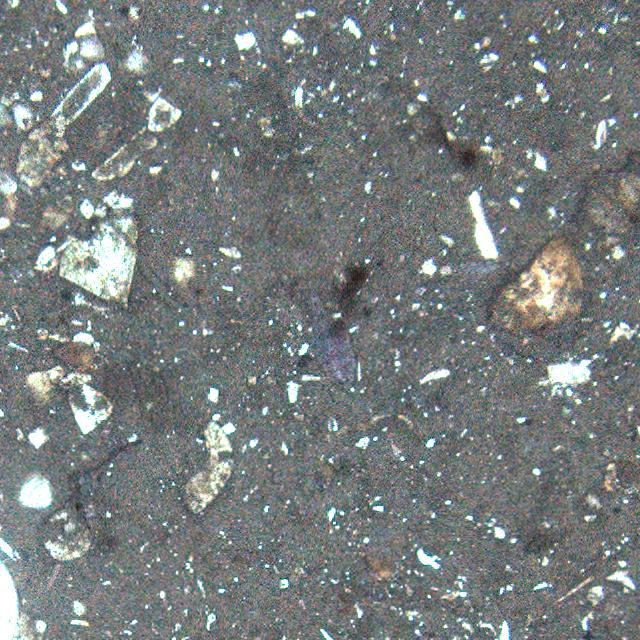flatfish: (301, 285, 360, 395)
